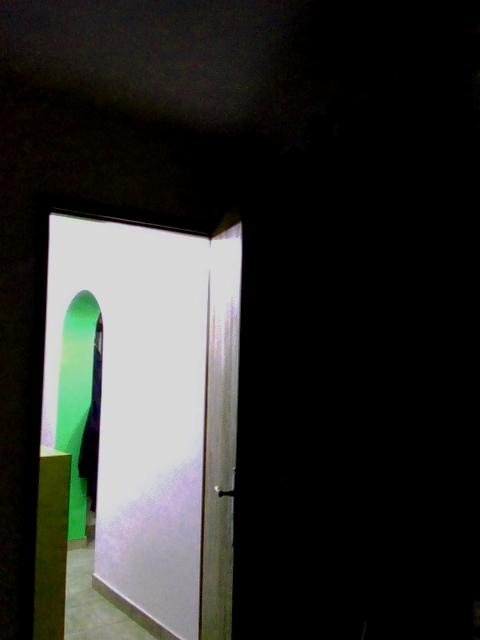open_door: (27, 193, 219, 639)
